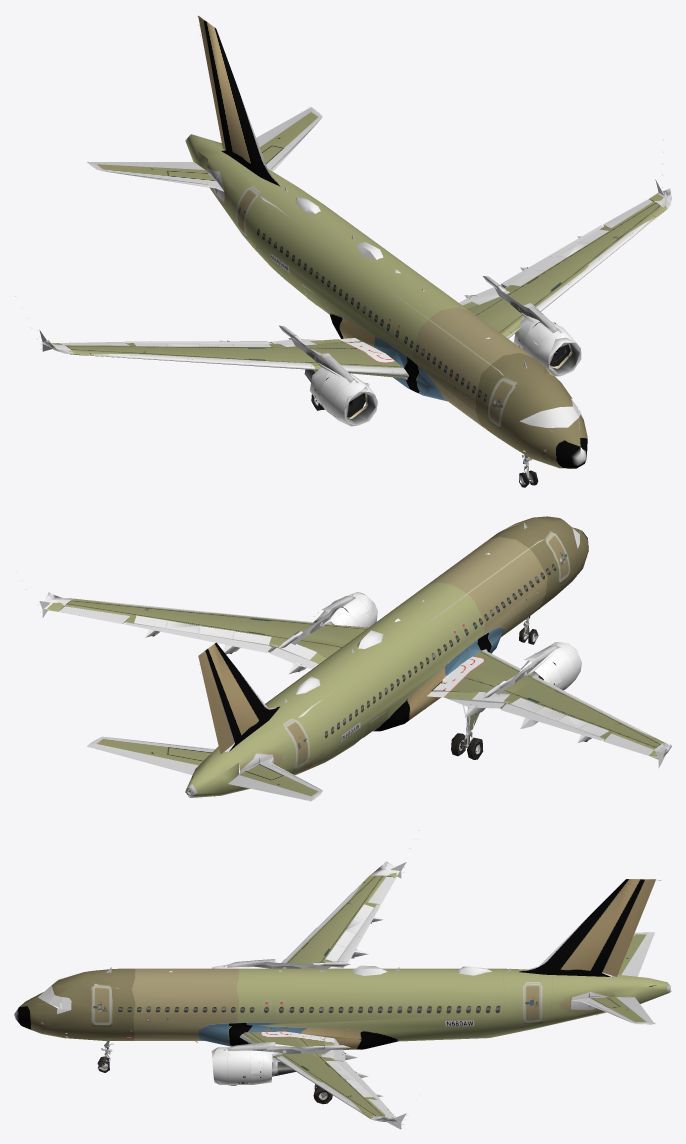
The model's file is civil_a320.glb.
3 views of the same model, one above another, from view 1: azimuth 30°, elevation 25°; view 2: azimuth 150°, elevation 25°; view 3: azimuth 270°, elevation 25° (orthographic). The views are drawn at different scales.
Visible parts, largest first — view 1: AileronL; view 2: AileronL; view 3: AileronL.
Part boxes in pixels (bbox=[...]): AileronL: bbox=[15, 15, 671, 487]; AileronL: bbox=[16, 516, 671, 801]; AileronL: bbox=[14, 830, 671, 1129].
Size of the model in its own units: 35.72 by 12.2 by 37.6.
8 materials, 7 textured.
